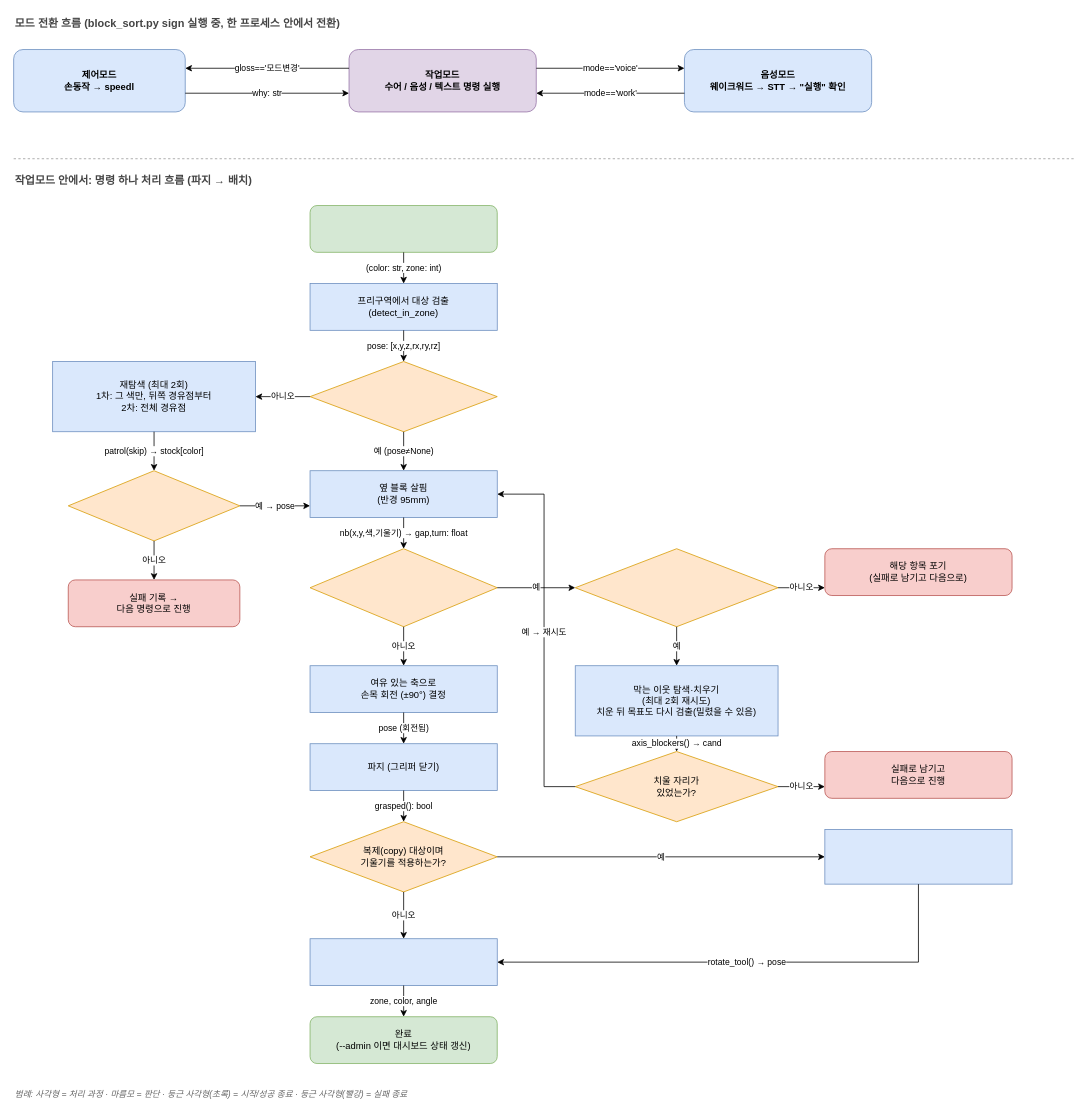
The diagram is 1089 pixels wide and 1115 high, and some of its shapes have lost their labels. Here are the shapes that lost their labels. From the top down, the box of each, then its label:
(309, 205, 497, 252): 명령 수신 (색, 구역) 또는 (구역, 구역)
(309, 361, 497, 432): 대상이 그 자리에 있는가?
(67, 470, 240, 541): 재탐색으로 발견했는가?
(309, 548, 497, 627): 두 축 모두 손가락 틈 부족한가? (양쪽 다 좁음)
(574, 548, 778, 627): RELOCATE_BLOCKERS 켜짐?
(824, 829, 1012, 884): 본보기 각도만큼 손목 추가 회전 (COPY_ANGLE)
(309, 938, 497, 986): 구역으로 이동 후 배치
